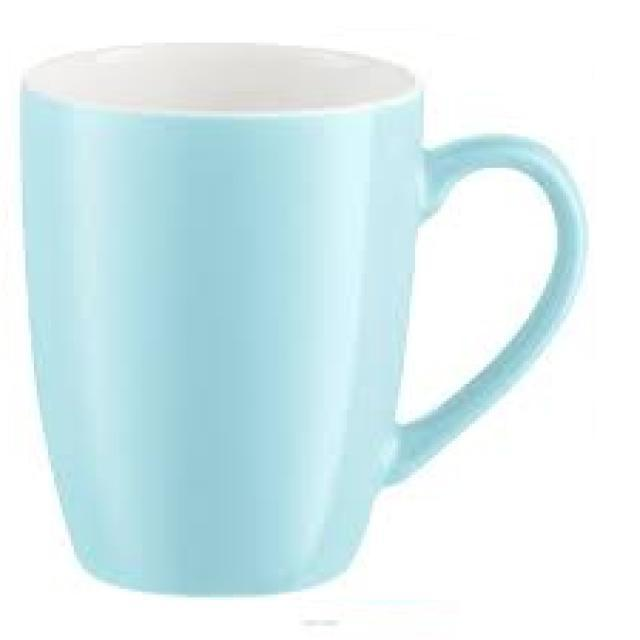Coffee Mug: (22, 40, 585, 595)
